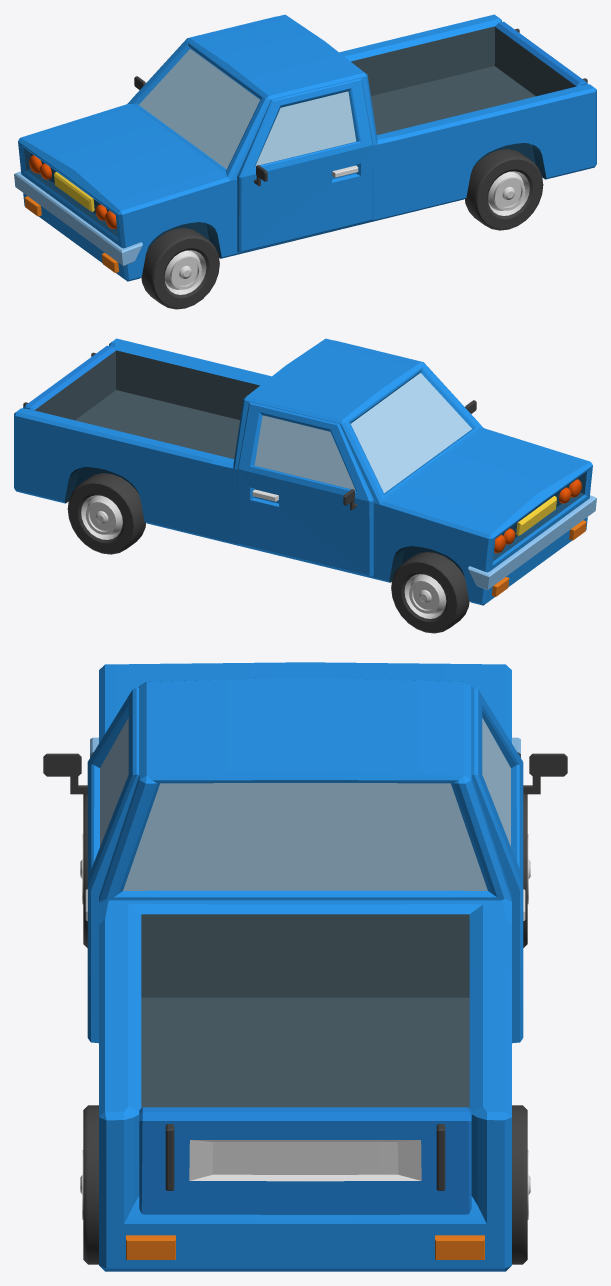
File: Off_Road_Car_Blue.fbx
The picture shows the model from 3 angles, top to bottom: view 1: azimuth 30°, elevation 25°; view 2: azimuth 150°, elevation 25°; view 3: azimuth 270°, elevation 25°; orthographic projection. The views are drawn at different scales.
Visible parts, largest first — view 1: than_xe, banh_xe, banh_xe1, cop_xe; view 2: than_xe, banh_xe3, banh_xe2, cop_xe; view 3: than_xe, cop_xe, banh_xe1, banh_xe2, banh_xe, banh_xe3.
Part boxes in pixels (x1,y1,x2,y2): than_xe: [14, 14, 596, 281]; banh_xe: [141, 228, 219, 309]; banh_xe1: [465, 149, 543, 230]; cop_xe: [494, 21, 587, 96]; than_xe: [14, 338, 596, 605]; banh_xe3: [391, 552, 469, 633]; banh_xe2: [67, 473, 145, 554]; cop_xe: [23, 345, 116, 420]; than_xe: [43, 662, 567, 1271]; cop_xe: [139, 1107, 471, 1214]; banh_xe1: [80, 1105, 98, 1264]; banh_xe2: [512, 1105, 530, 1264]; banh_xe: [80, 794, 87, 947]; banh_xe3: [523, 794, 530, 947].
Bounding box in the file's own units: 1764 × 626 × 825.
